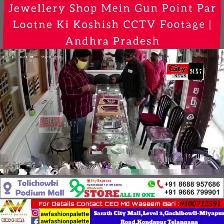person: (59, 49, 95, 161), (113, 49, 145, 141), (143, 50, 165, 113), (109, 49, 124, 70), (92, 49, 103, 69), (136, 49, 143, 61)
